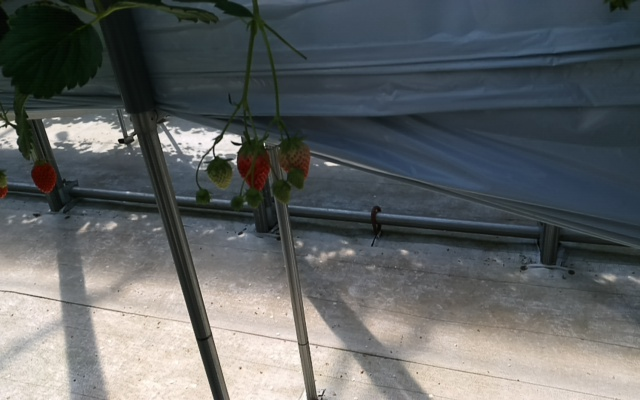GreenStrawberry: (276, 136, 312, 183), (206, 155, 233, 190), (271, 180, 291, 205), (288, 169, 306, 190), (245, 188, 263, 209)
MatureStrawberry: (234, 140, 272, 193), (30, 160, 58, 194)
